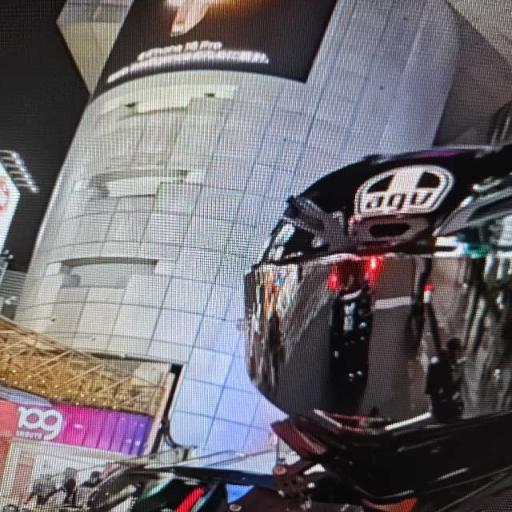person: (75, 471, 102, 507), (25, 474, 56, 505)
